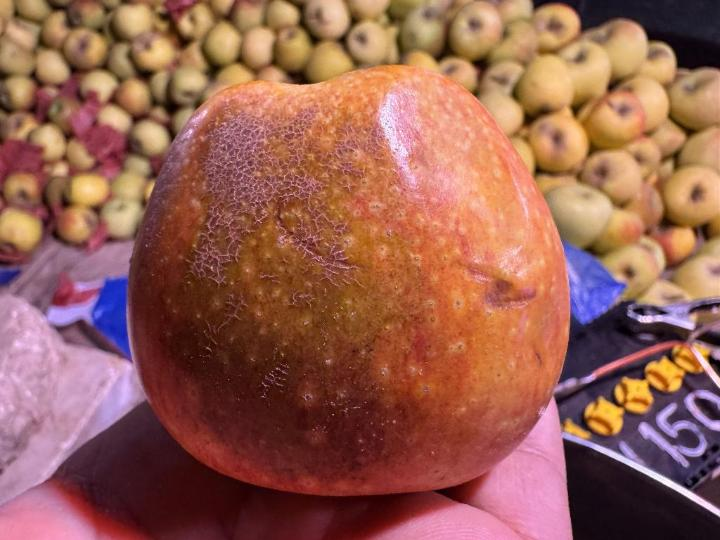apple: (128, 66, 569, 495)
surface_damage: (186, 87, 546, 315)
